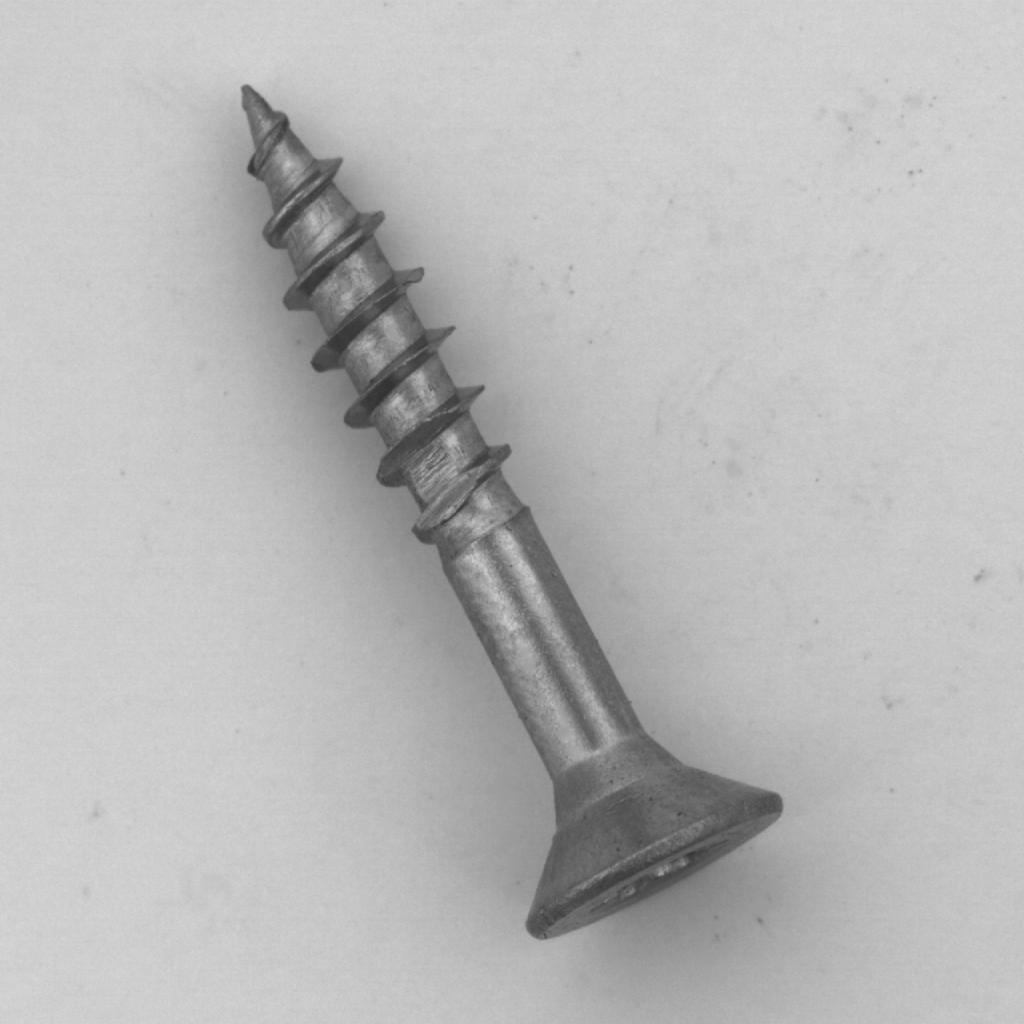manipulated_front: (28, 358, 996, 669)
